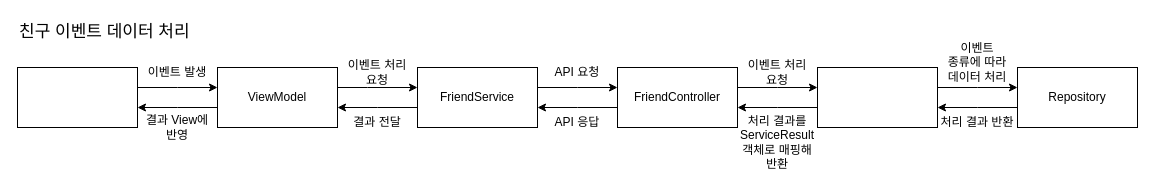
The diagram is 1155 pixels wide and 188 high, and some of its shapes have lost their labels. Here are the shapes that lost their labels. From the top down, the box of each, then its label:
(16, 66, 138, 128): View
(816, 66, 938, 128): SocialService
